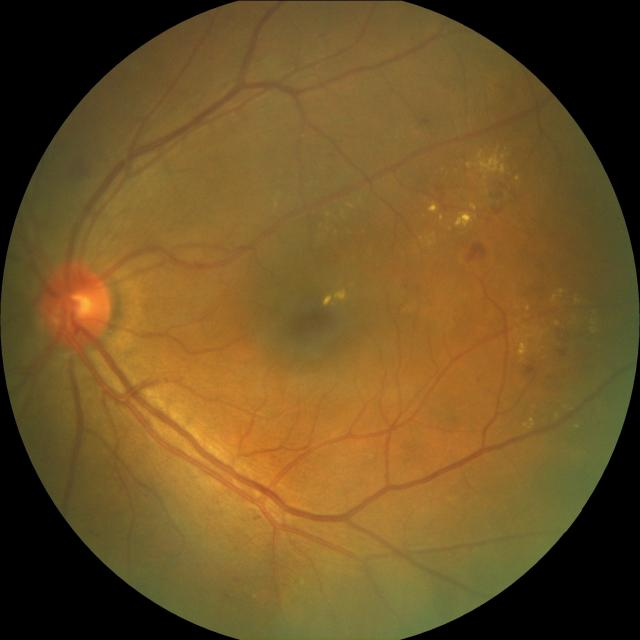OC: (50, 281, 98, 328)
OD: (37, 259, 111, 350)
